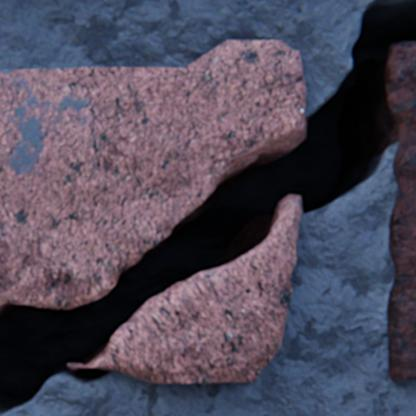brick: (385, 47, 415, 379)
broken_brick: (0, 41, 305, 308), (92, 204, 299, 383), (68, 367, 88, 369)
crack: (0, 0, 415, 415)
